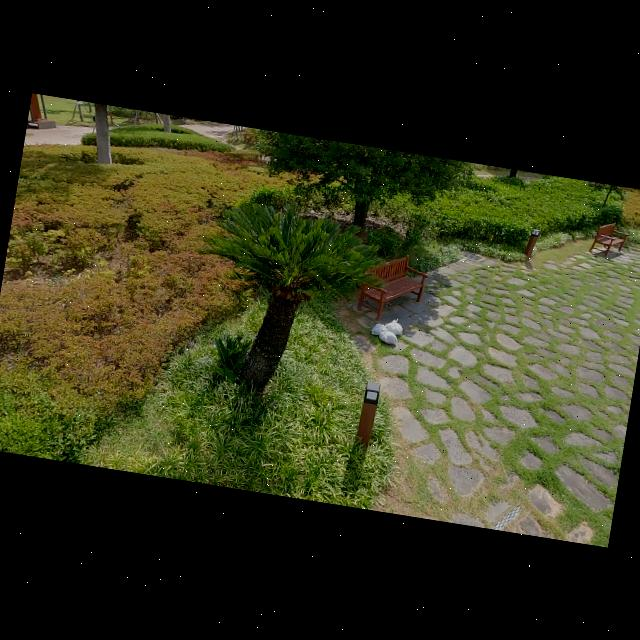trash: (385, 316, 405, 336), (377, 328, 399, 346), (370, 322, 387, 336)
